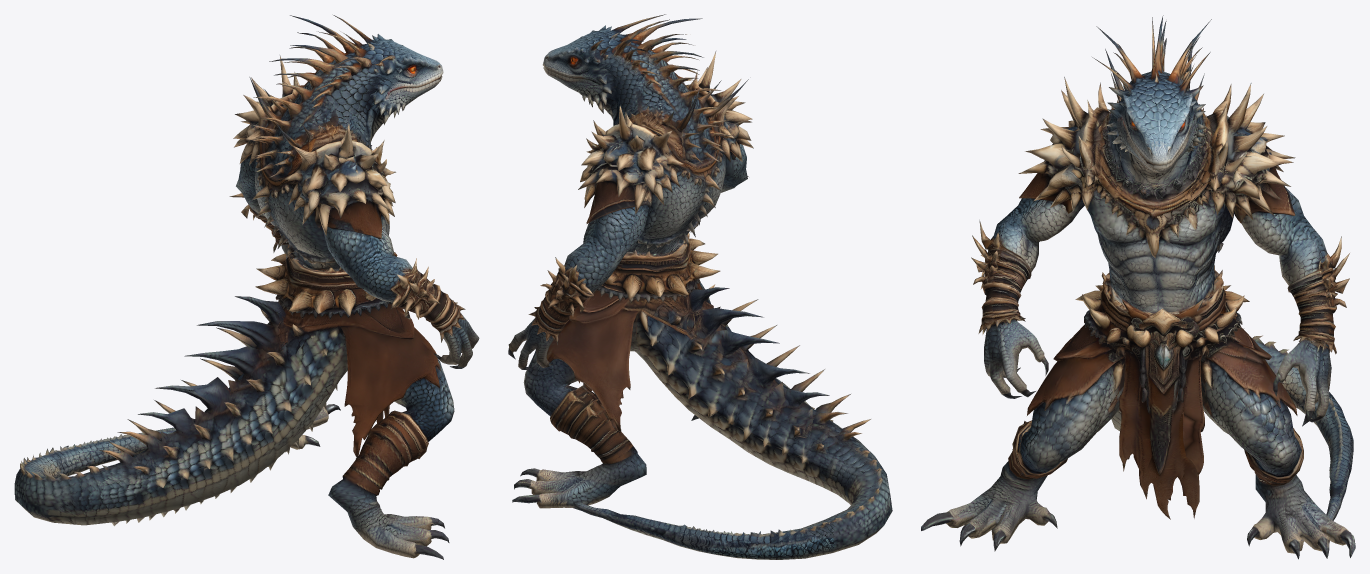
File: warrior.glb
3 renders of one model, left to right at view 1: azimuth 30°, elevation 25°; view 2: azimuth 150°, elevation 25°; view 3: azimuth 270°, elevation 25°, orthographic. The views are drawn at different scales.
Size of the model in its own units: 1.74 by 2 by 1.55.
1 material, 1 textured.
